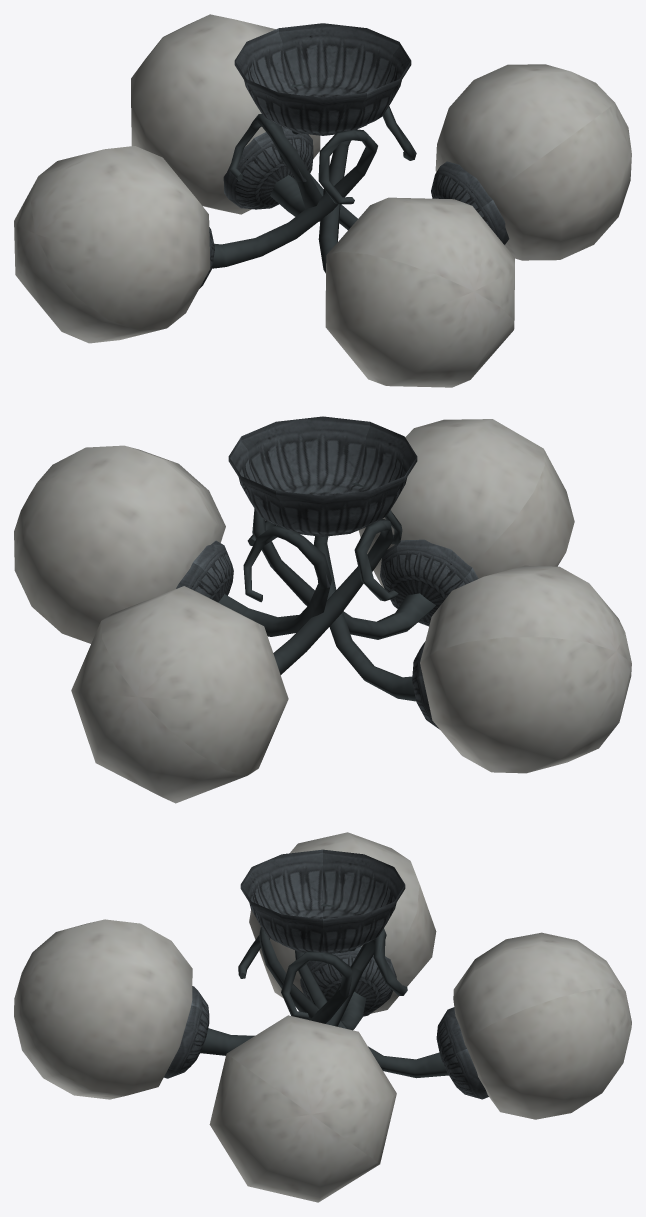
Rendered from lamp_05_ceiling_lamp.fbx.
3 views of the same model, one above another, from view 1: azimuth 30°, elevation 25°; view 2: azimuth 150°, elevation 25°; view 3: azimuth 270°, elevation 25° (orthographic). The views are drawn at different scales.
Visible parts, largest first — view 1: lamp_05_ceiling_lamp; view 2: lamp_05_ceiling_lamp; view 3: lamp_05_ceiling_lamp.
Part boxes in pixels (bbox=[...]): lamp_05_ceiling_lamp: bbox=[14, 14, 631, 387]; lamp_05_ceiling_lamp: bbox=[14, 416, 631, 803]; lamp_05_ceiling_lamp: bbox=[14, 832, 631, 1202].
Bounding box in the file's own units: 100 × 39.23 × 100.
